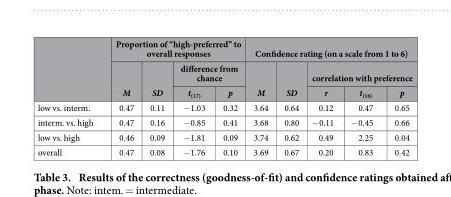table: (36, 37, 411, 157)
table column: (36, 37, 103, 157), (171, 37, 213, 157), (341, 37, 383, 157), (103, 37, 141, 157), (304, 37, 341, 157), (213, 37, 246, 157), (141, 37, 171, 157), (246, 37, 275, 157), (275, 37, 304, 157), (383, 37, 411, 157)
table column header: (36, 37, 411, 100)
table row: (36, 60, 411, 84), (36, 37, 411, 60), (36, 84, 411, 100), (36, 114, 411, 129), (36, 129, 411, 144), (36, 100, 411, 114), (36, 144, 411, 157)
table spanning cell: (246, 37, 411, 60), (103, 37, 246, 60), (304, 60, 411, 84), (171, 60, 246, 84), (103, 60, 141, 100), (141, 60, 171, 100), (246, 60, 275, 100), (275, 60, 304, 100)
